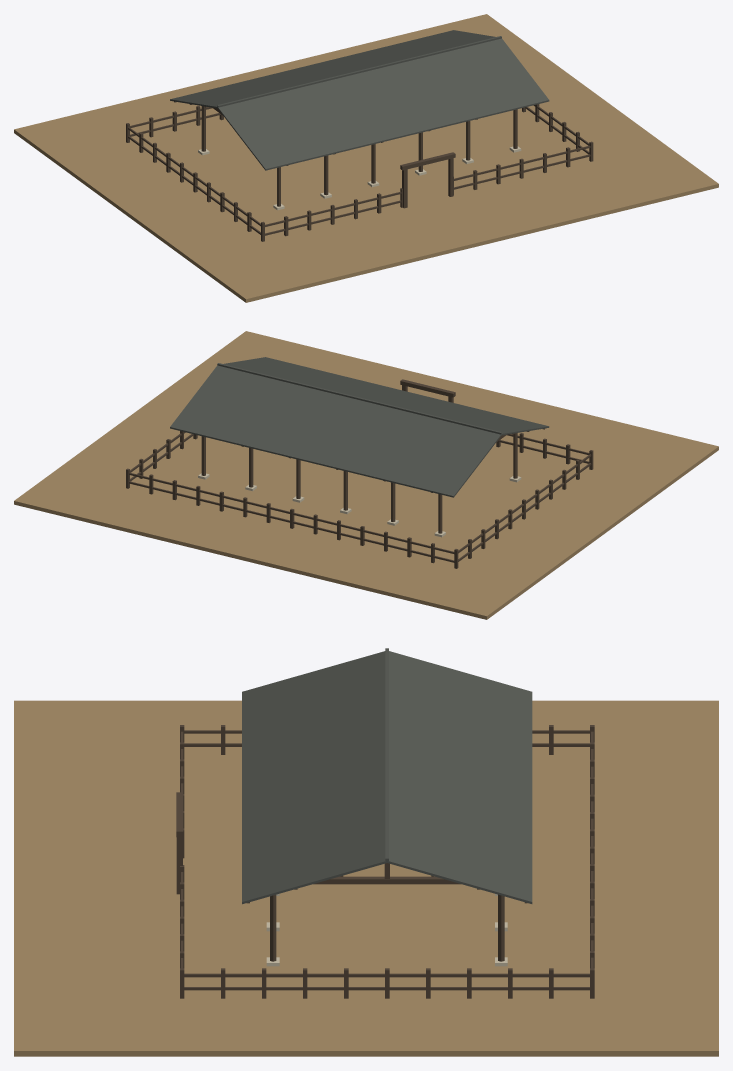
File: stoneclassic_access_far.glb
3 views of the same model, one above another, from view 1: azimuth 30°, elevation 25°; view 2: azimuth 150°, elevation 25°; view 3: azimuth 270°, elevation 25° (orthographic). The views are drawn at different scales.
Parts seen in each view (by area): view 1: LY_stoneclassic_access_court_C_v1_far; view 2: LY_stoneclassic_access_court_C_v1_far; view 3: LY_stoneclassic_access_court_C_v1_far.
Part boxes in pixels (x1,y1,x2,y2): LY_stoneclassic_access_court_C_v1_far: (14,14,718,302); LY_stoneclassic_access_court_C_v1_far: (14,331,718,619); LY_stoneclassic_access_court_C_v1_far: (14,648,718,1056).
Size of the model in its own units: 40 by 6.82 by 34.
